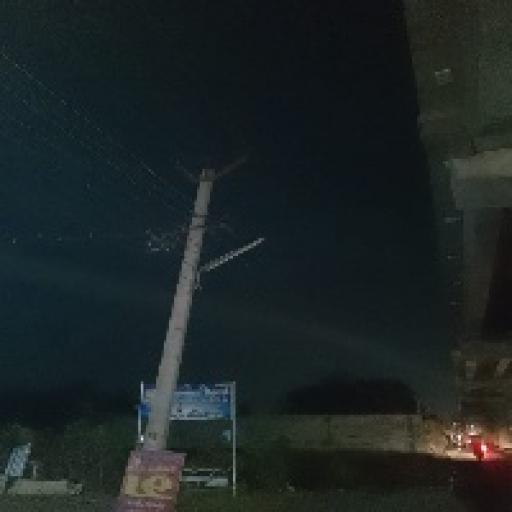Not Working: (210, 150, 252, 186)
